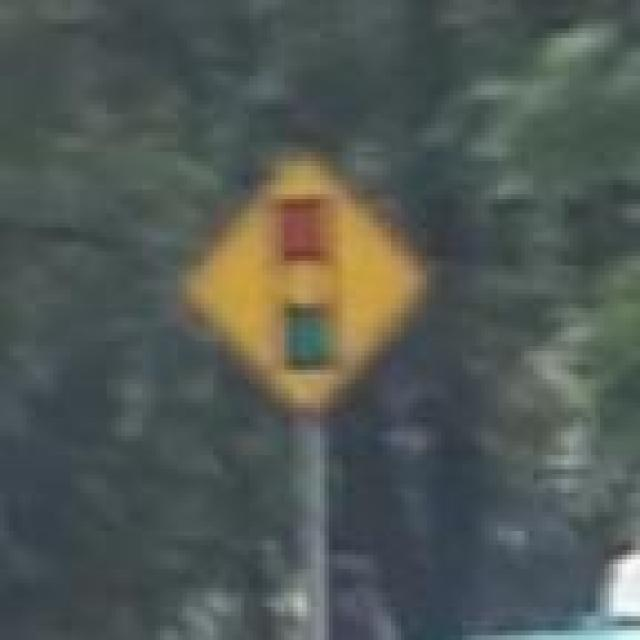traffic sign: (178, 157, 432, 418)
